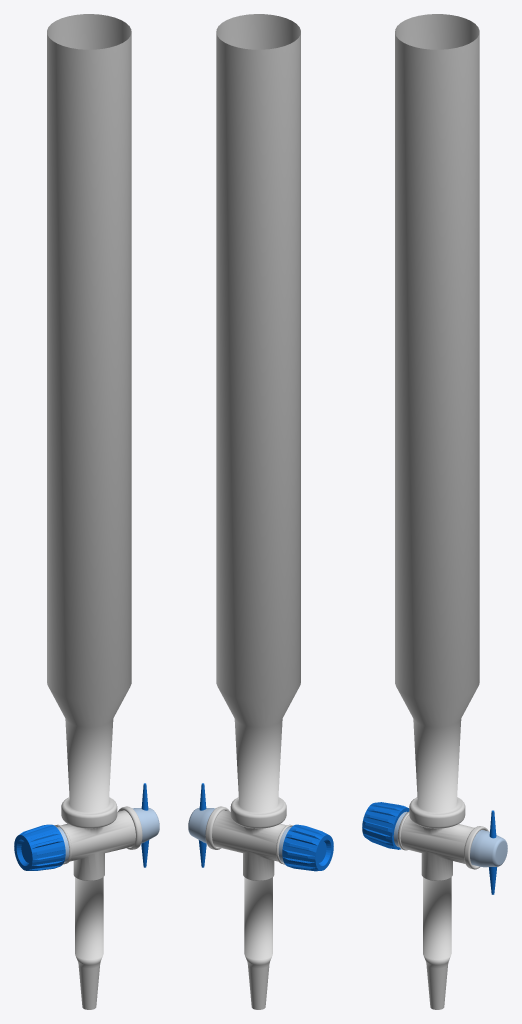
Rendered from newburrette.glb.
3 renders of one model, left to right at view 1: azimuth 30°, elevation 25°; view 2: azimuth 150°, elevation 25°; view 3: azimuth 330°, elevation 25°, orthographic.
Visible parts, largest first — view 1: Cylinder, Cylinder.004, Cylinder.002; view 2: Cylinder, Cylinder.004, Cylinder.002; view 3: Cylinder, Cylinder.004, Cylinder.002.
Boxes of the visible parts, x1,y1,x2,y2 form: Cylinder: [47, 14, 142, 1009]; Cylinder.004: [14, 824, 65, 870]; Cylinder.002: [56, 808, 159, 862]; Cylinder: [205, 14, 300, 1009]; Cylinder.004: [282, 824, 333, 871]; Cylinder.002: [188, 808, 291, 862]; Cylinder: [395, 14, 488, 1009]; Cylinder.004: [362, 802, 409, 849]; Cylinder.002: [393, 811, 507, 867].
Bounding box in the file's own units: 0.7823 × 5.58 × 0.4399.
